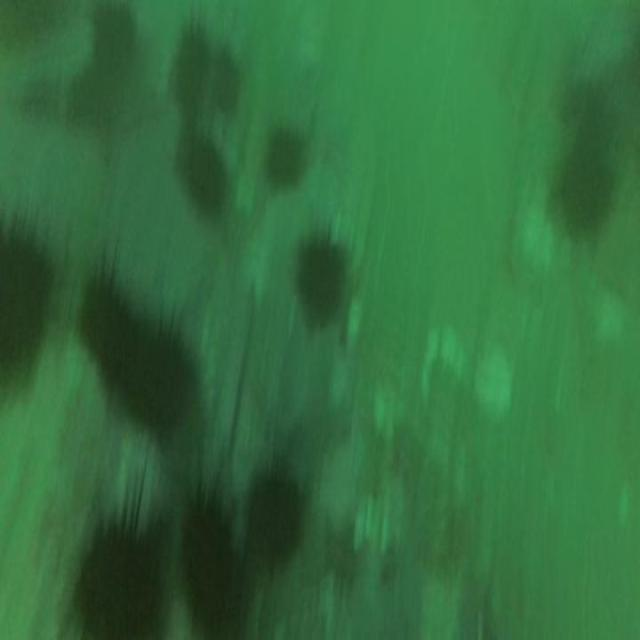echinus: (62, 447, 174, 640), (177, 456, 248, 640), (0, 201, 63, 390), (128, 292, 199, 448), (72, 242, 141, 390), (240, 452, 311, 580), (288, 213, 356, 344), (172, 110, 236, 220), (561, 131, 616, 245), (261, 114, 319, 199), (164, 9, 209, 106)
scallop: (511, 194, 555, 290), (473, 346, 514, 425)
